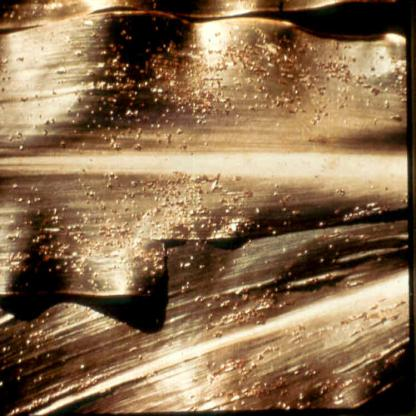Corn rust leaf: (1, 12, 410, 315), (100, 234, 414, 415)
